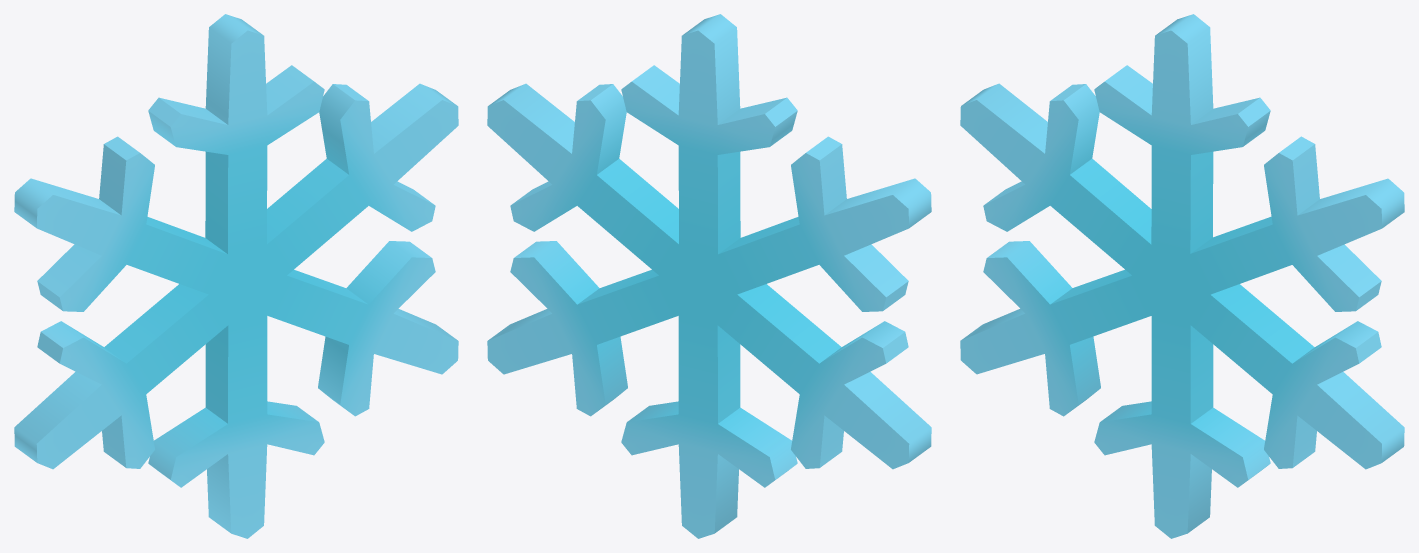
File: snowflake_002.glb
The picture shows the model from 3 angles, left to right: view 1: azimuth 30°, elevation 25°; view 2: azimuth 150°, elevation 25°; view 3: azimuth 330°, elevation 25°; orthographic projection.
Parts seen in each view (by area): view 1: snowflake_002; view 2: snowflake_002; view 3: snowflake_002.
Part boxes in pixels (<box>): snowflake_002: <box>14,14,458,538</box>; snowflake_002: <box>487,14,931,538</box>; snowflake_002: <box>960,14,1404,538</box>.
Size of the model in its own units: 1.48 by 1.7 by 0.1364.
1 material, 1 textured.
